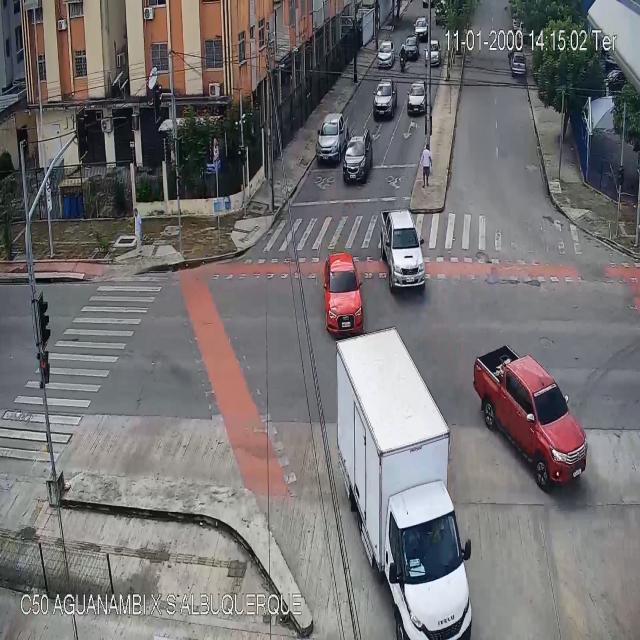Car: (474, 348, 593, 488), (381, 207, 427, 294), (324, 247, 363, 335), (343, 128, 372, 182), (317, 111, 343, 164), (374, 79, 396, 118), (408, 82, 424, 114), (512, 52, 526, 80), (378, 39, 393, 65), (426, 41, 439, 68), (407, 37, 419, 60), (413, 16, 425, 39), (435, 5, 448, 25)
Motorcycle: (399, 43, 406, 74)
Truck: (336, 327, 475, 640)
